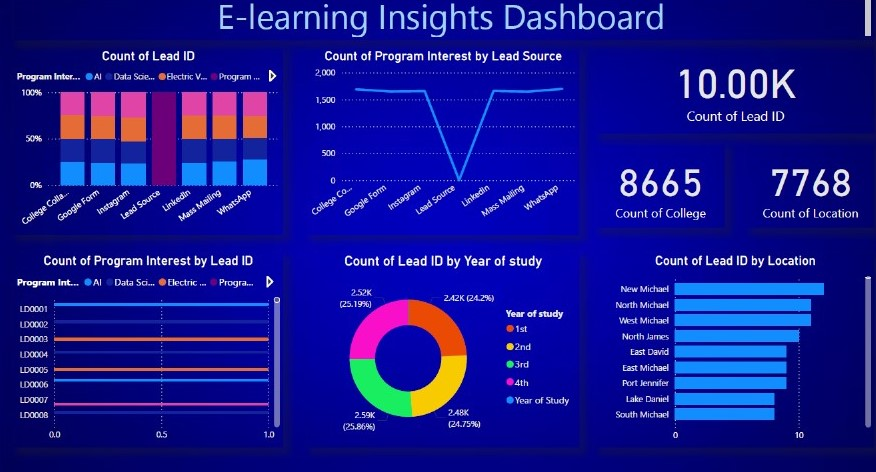

This screenshot's page, from the dashboard's own definition file:
{"tool":"powerbi","page":{"name":"Page 1","canvas":[1280,720],"ordinal":0},"visuals":[{"type":"barChart","fields":{"Category":["hypothetical_dataset.Location"],"Y":["hypothetical_dataset.Lead ID"]},"box":[852.9,395.7,395.7,277.1],"z":0},{"type":"donutChart","fields":{"Category":["hypothetical_dataset.Year of study"],"Y":["hypothetical_dataset.Lead ID"]},"box":[441.4,395.7,387.1,277.1],"z":1000},{"type":"clusteredBarChart","title":"Count of Program Interest by Lead ID ","fields":{"Series":["hypothetical_dataset.Program Interest"],"Y":["hypothetical_dataset.Program Interest"],"Category":["hypothetical_dataset.Lead ID"]},"box":[22.9,395.7,384.3,277.1],"z":2000},{"type":"hundredPercentStackedColumnChart","title":"Count of Lead ID ","fields":{"Category":["hypothetical_dataset.Lead Source"],"Y":["hypothetical_dataset.Lead ID"],"Series":["hypothetical_dataset.Program Interest"]},"box":[22.9,104.3,384.3,265.7],"z":3000},{"type":"lineChart","fields":{"Category":["hypothetical_dataset.Lead Source"],"Y":["hypothetical_dataset.Program Interest"]},"box":[441.4,104.3,387.1,265.7],"z":4000},{"type":"card","fields":{"Values":["hypothetical_dataset.Lead ID"]},"box":[852.9,92.9,395.7,132.9],"z":5000},{"type":"card","fields":{"Values":["hypothetical_dataset.College"]},"box":[852.9,241.4,182.9,118.6],"z":6000},{"type":"card","fields":{"Values":["hypothetical_dataset.Location"]},"box":[1067.1,241.4,181.4,118.6],"z":7000},{"type":"textbox","box":[22.9,24.3,1225.7,68.6],"z":8000}]}

Visuals, with their boxes on the page's 1280x720 design canvas (x1, y1, x2, y2). These are canvas units, not pixel positions in the 876x472 screenshot, which may show the page scaled, cropped or inside an application window:
barChart - hypothetical_dataset.Location x hypothetical_dataset.Lead ID: l=853, t=396, r=1249, b=673
donutChart - hypothetical_dataset.Year of study x hypothetical_dataset.Lead ID: l=441, t=396, r=828, b=673
"Count of Program Interest by Lead ID " clusteredBarChart: l=23, t=396, r=407, b=673
"Count of Lead ID " hundredPercentStackedColumnChart: l=23, t=104, r=407, b=370
lineChart - hypothetical_dataset.Lead Source x hypothetical_dataset.Program Interest: l=441, t=104, r=828, b=370
card - hypothetical_dataset.Lead ID: l=853, t=93, r=1249, b=226
card - hypothetical_dataset.College: l=853, t=241, r=1036, b=360
card - hypothetical_dataset.Location: l=1067, t=241, r=1248, b=360
textbox: l=23, t=24, r=1249, b=93
